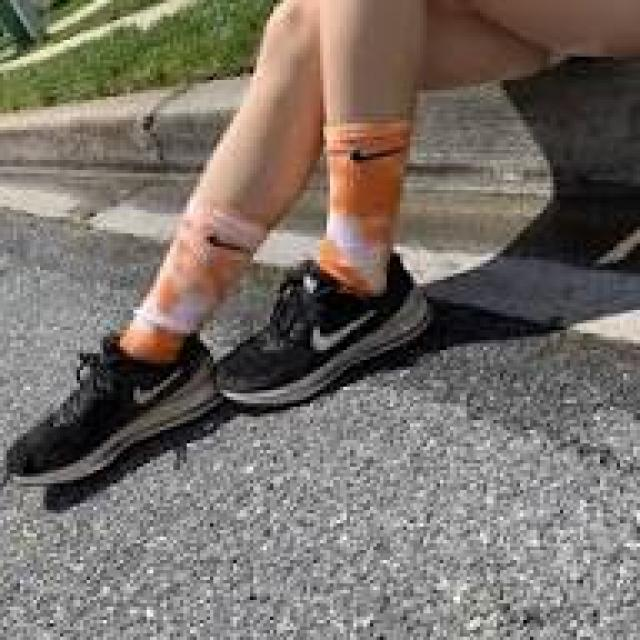nike logo: (301, 290, 394, 369), (122, 350, 202, 416)
sock logo: (118, 192, 275, 357), (314, 125, 419, 286)
